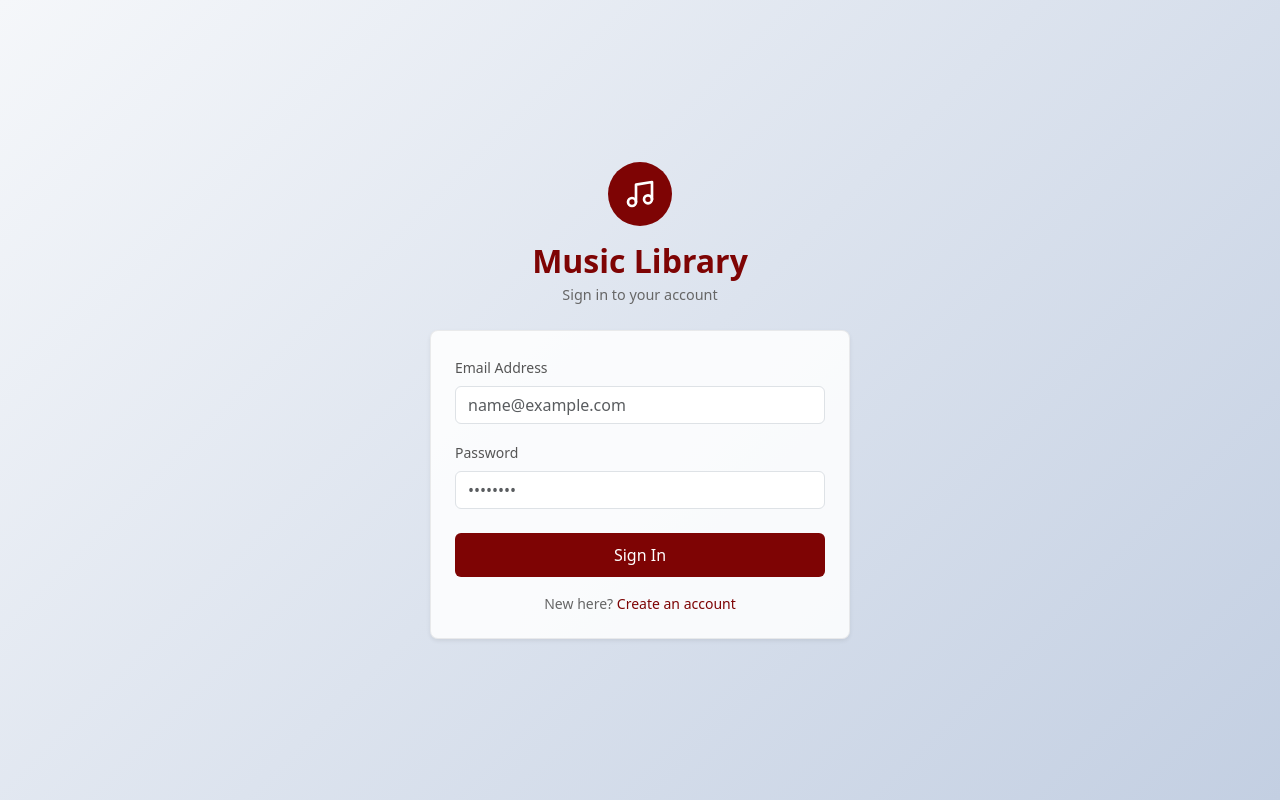
Scenario: Login Page › should show validation error for invalid email format
The image size is (1280, 800).
Type "notanemail" into the field with placeholder "name@example.com". click: point(640, 405)
box: [455,386,825,424]
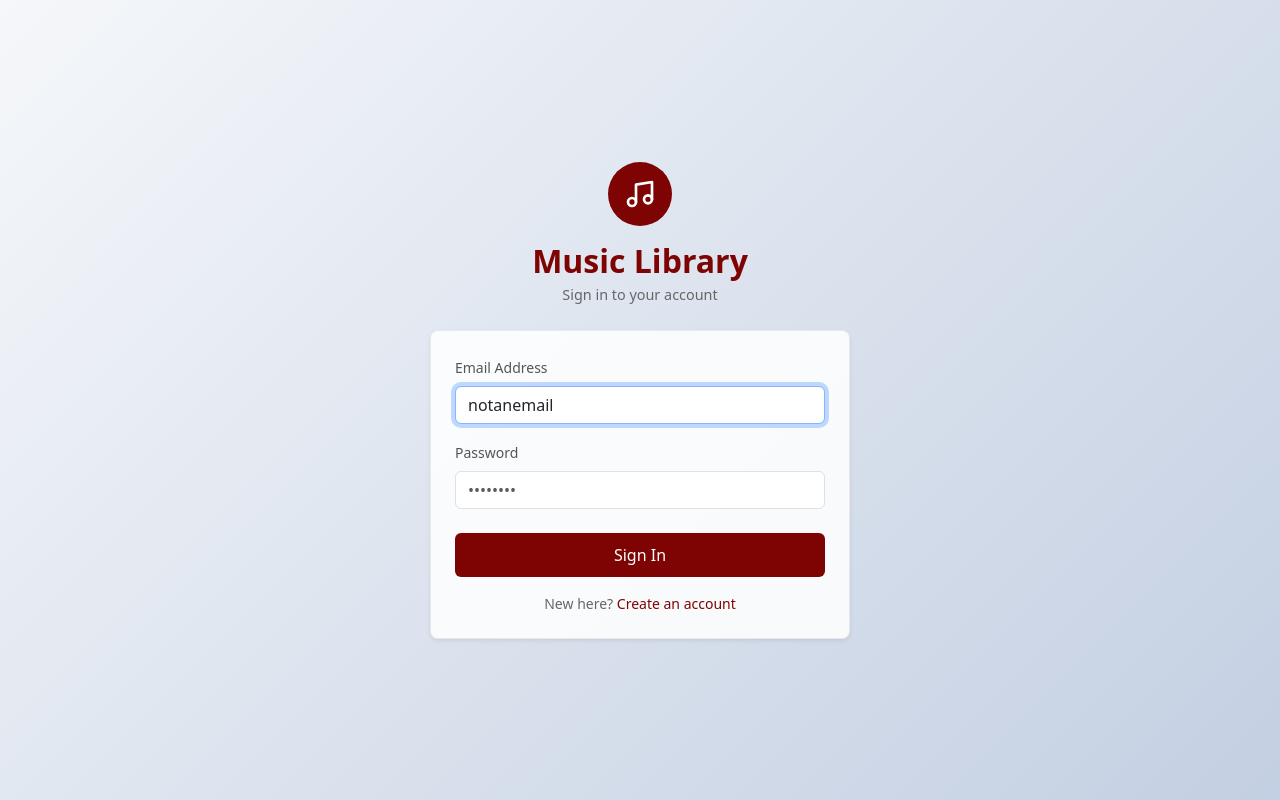
Leave the field, box [455,386,825,424]
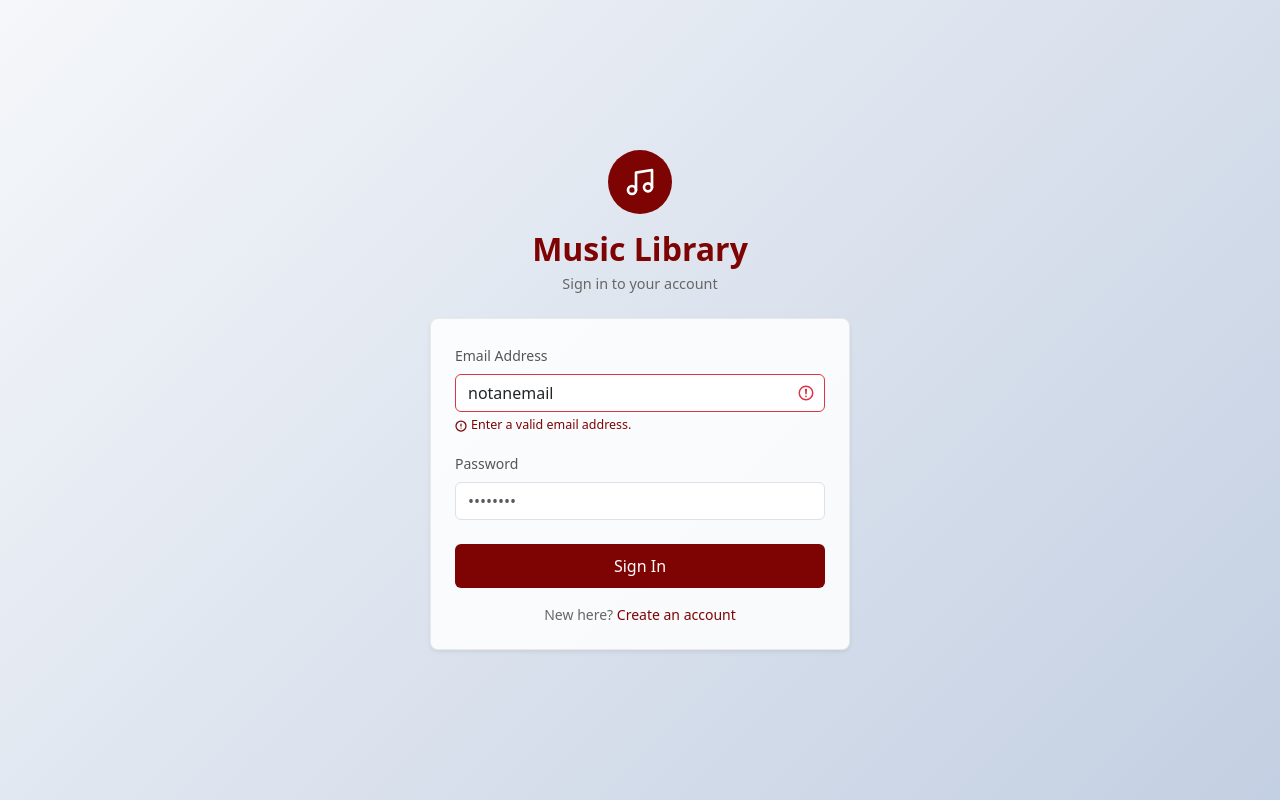
Check: the text "Enter a valid email address" is shown, box [471,416,631,433]
